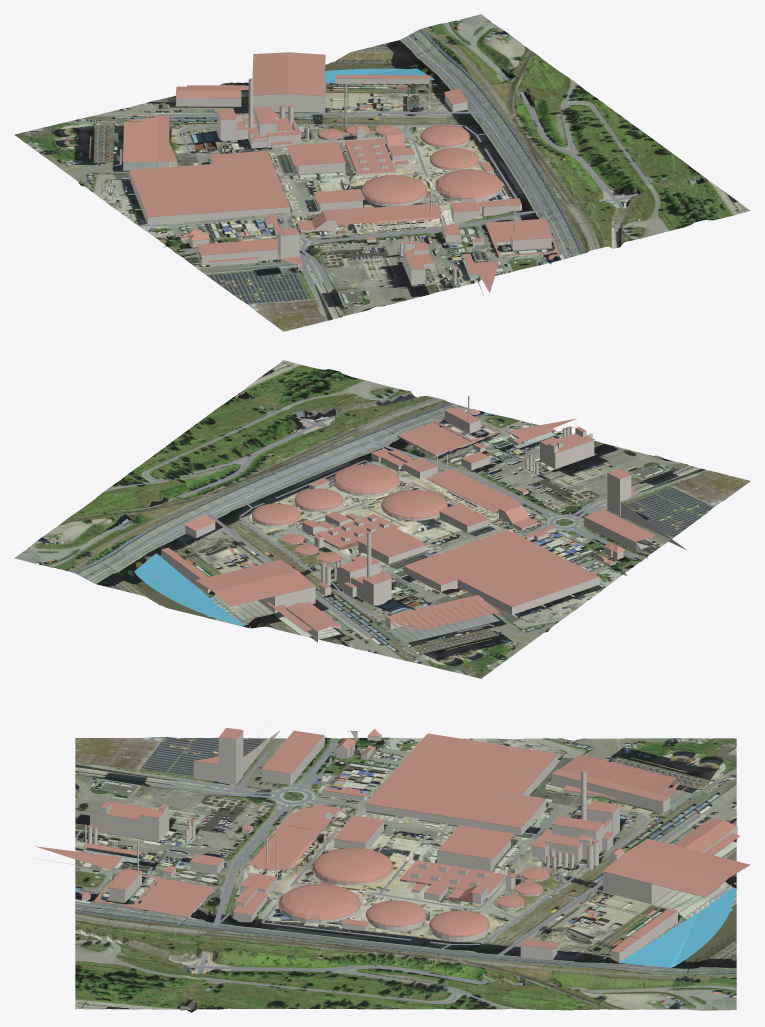
File: verbund_ara_basel.glb
3 renders of one model, top to bottom at view 1: azimuth 30°, elevation 25°; view 2: azimuth 150°, elevation 25°; view 3: azimuth 270°, elevation 25°, orthographic. The views are drawn at different scales.
Visible parts, largest first — view 1: terrain_ground, neighborhood_buildings_roofs, neighborhood_buildings_walls, osm_roads, osm_water_pools; view 2: terrain_ground, neighborhood_buildings_roofs, neighborhood_buildings_walls, osm_roads, osm_water_pools; view 3: terrain_ground, neighborhood_buildings_roofs, neighborhood_buildings_walls, osm_roads, osm_water_pools.
Boxes of the visible parts, x1,y1,x2,y2 form: terrain_ground: (14,14,750,331); neighborhood_buildings_roofs: (123,52,560,292); neighborhood_buildings_walls: (129,78,560,295); osm_roads: (114,63,649,287); osm_water_pools: (325,68,434,83); terrain_ground: (14,360,750,678); neighborhood_buildings_roofs: (161,396,671,632); neighborhood_buildings_walls: (161,397,686,642); osm_roads: (112,403,649,637); osm_water_pools: (134,553,244,625); terrain_ground: (75,737,736,1012); neighborhood_buildings_roofs: (35,727,750,952); neighborhood_buildings_walls: (37,730,737,961); osm_roads: (84,742,736,1003); osm_water_pools: (619,888,735,967).
Bounding box in the file's own units: 524 × 68.91 × 557.
Materials: 5 (1 with a texture image).
